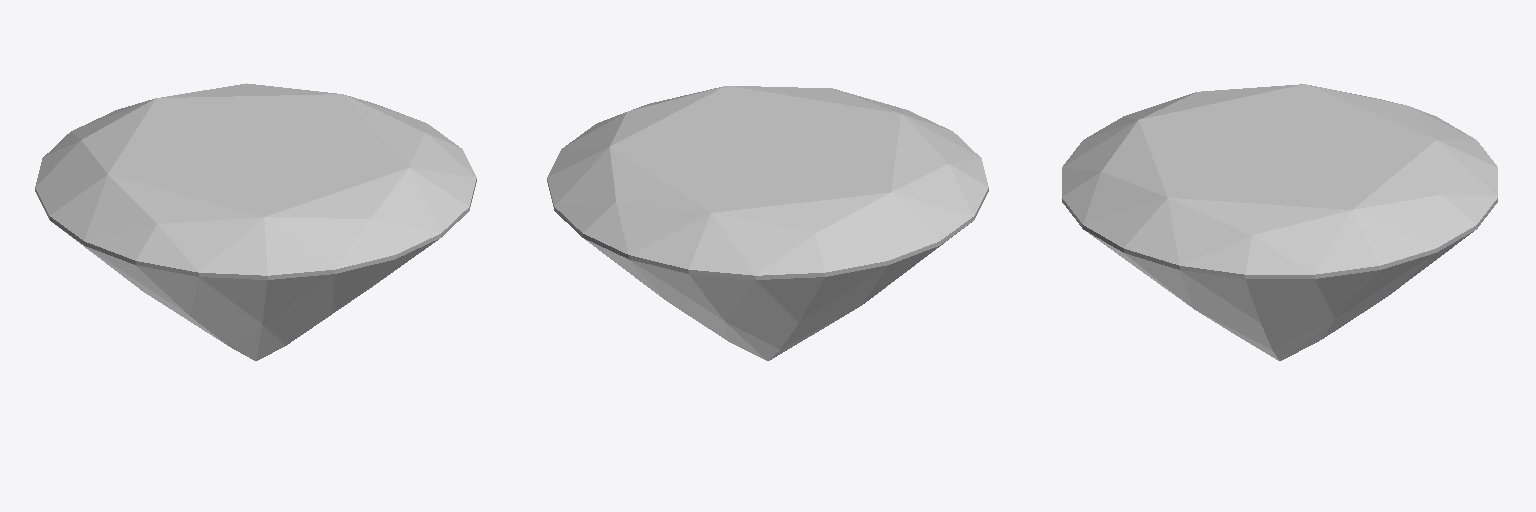
Rendered from twinkle.obj.
The picture shows the model from 3 angles: view 1: azimuth 30°, elevation 25°; view 2: azimuth 150°, elevation 25°; view 3: azimuth 270°, elevation 25°; orthographic projection.
Parts seen in each view (by area): view 1: twinkle.~0; view 2: twinkle.~0; view 3: twinkle.~0.
Part boxes in pixels (x1,y1,x2,y2): twinkle.~0: (35, 83, 476, 360); twinkle.~0: (547, 86, 988, 360); twinkle.~0: (1062, 84, 1497, 360).
Bounding box in the file's own units: 2.67 × 1.43 × 2.67.